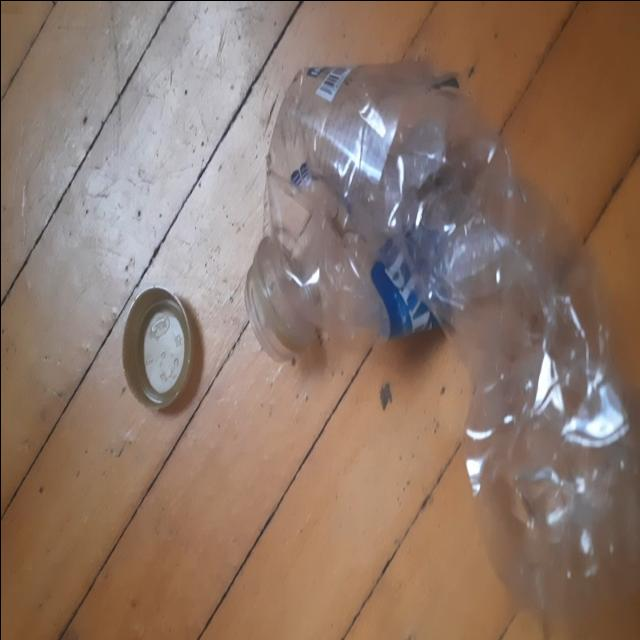Plastic: (250, 62, 638, 638)
